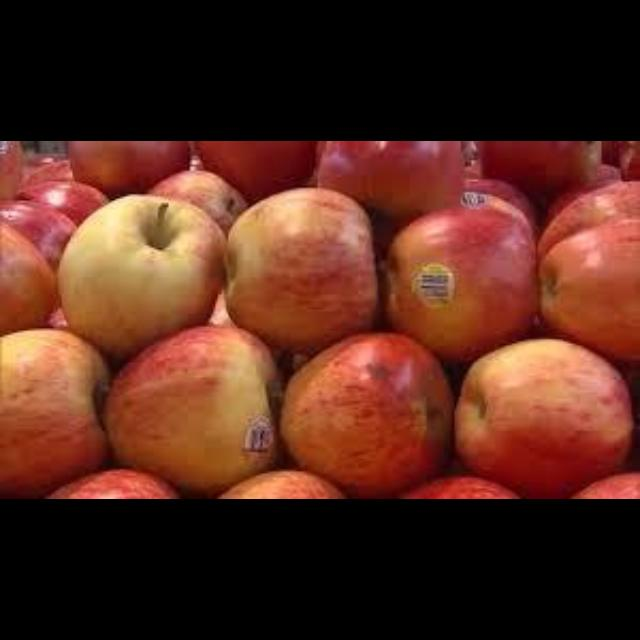apple: (105, 327, 279, 493), (279, 333, 452, 497), (454, 339, 631, 497), (58, 194, 224, 359), (224, 188, 375, 352), (384, 207, 535, 361), (0, 329, 109, 497), (540, 220, 638, 361), (316, 141, 463, 220), (194, 141, 314, 201), (66, 141, 190, 194), (0, 224, 55, 333), (149, 171, 245, 231), (0, 201, 75, 269), (17, 182, 107, 224), (45, 470, 177, 497), (218, 470, 343, 497), (399, 476, 518, 497), (570, 472, 638, 497)
